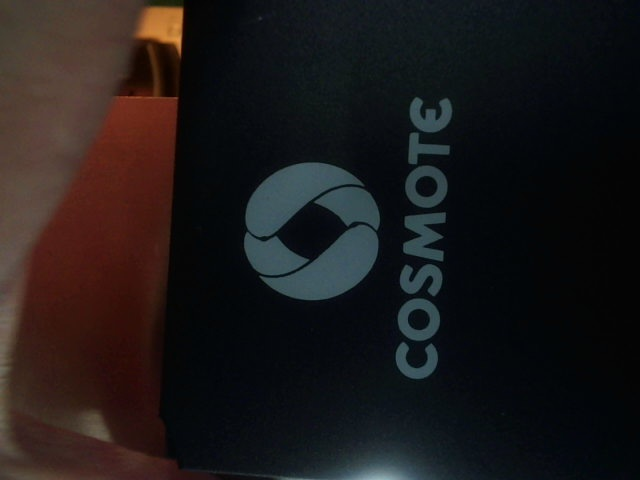AU_COSMOTE: (233, 93, 464, 381)
